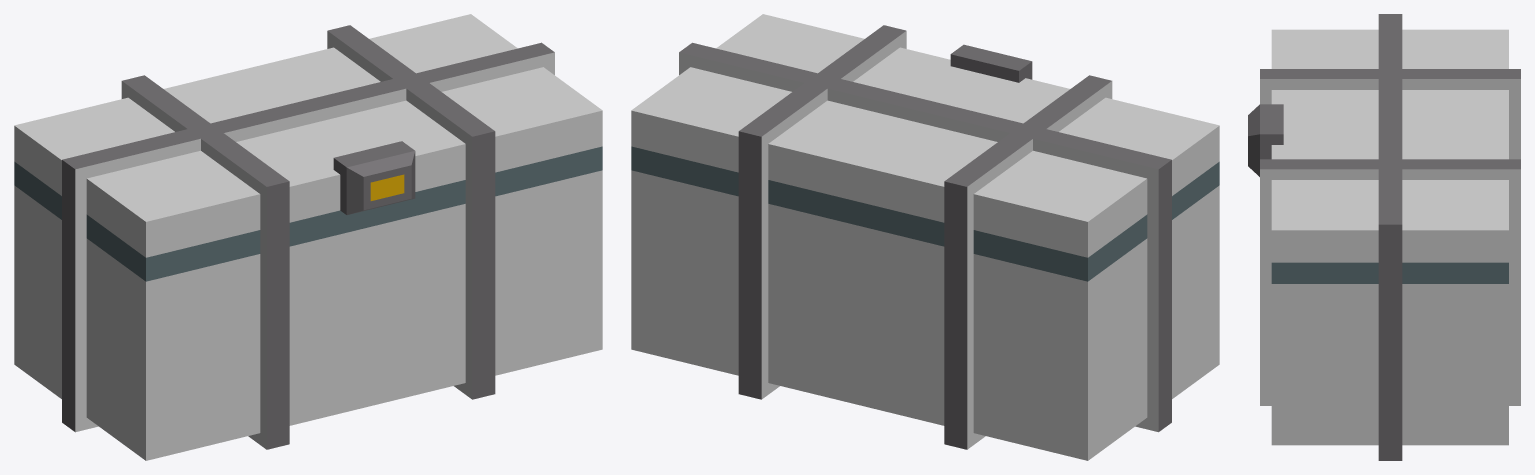
The model's file is scifi_crate_2.fbx.
The picture shows the model from 3 angles, left to right: view 1: azimuth 30°, elevation 25°; view 2: azimuth 150°, elevation 25°; view 3: azimuth 270°, elevation 25°; orthographic projection. The views are drawn at different scales.
Parts seen in each view (by area): view 1: Cube.026; view 2: Cube.026; view 3: Cube.026.
Part boxes in pixels (left/top/right/bottom): Cube.026: left=14, top=14, right=602, bottom=460; Cube.026: left=631, top=14, right=1219, bottom=460; Cube.026: left=1248, top=14, right=1520, bottom=460.
Size of the model in its own units: 2.1 by 1.1 by 1.15.
